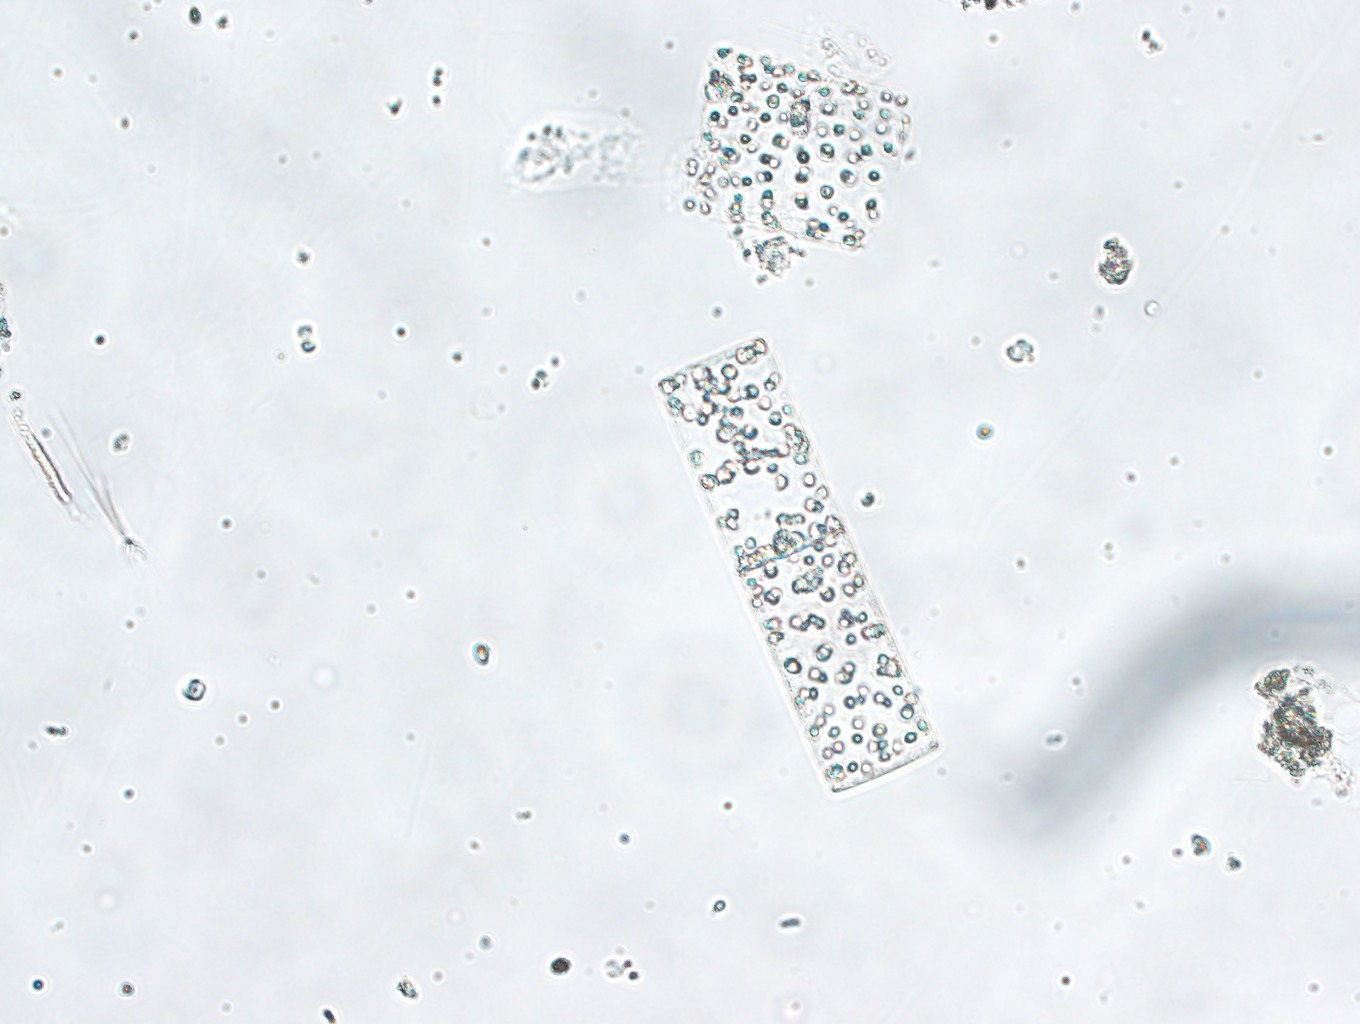guinardia flaccida: (641, 333, 943, 795), (658, 30, 924, 253)
